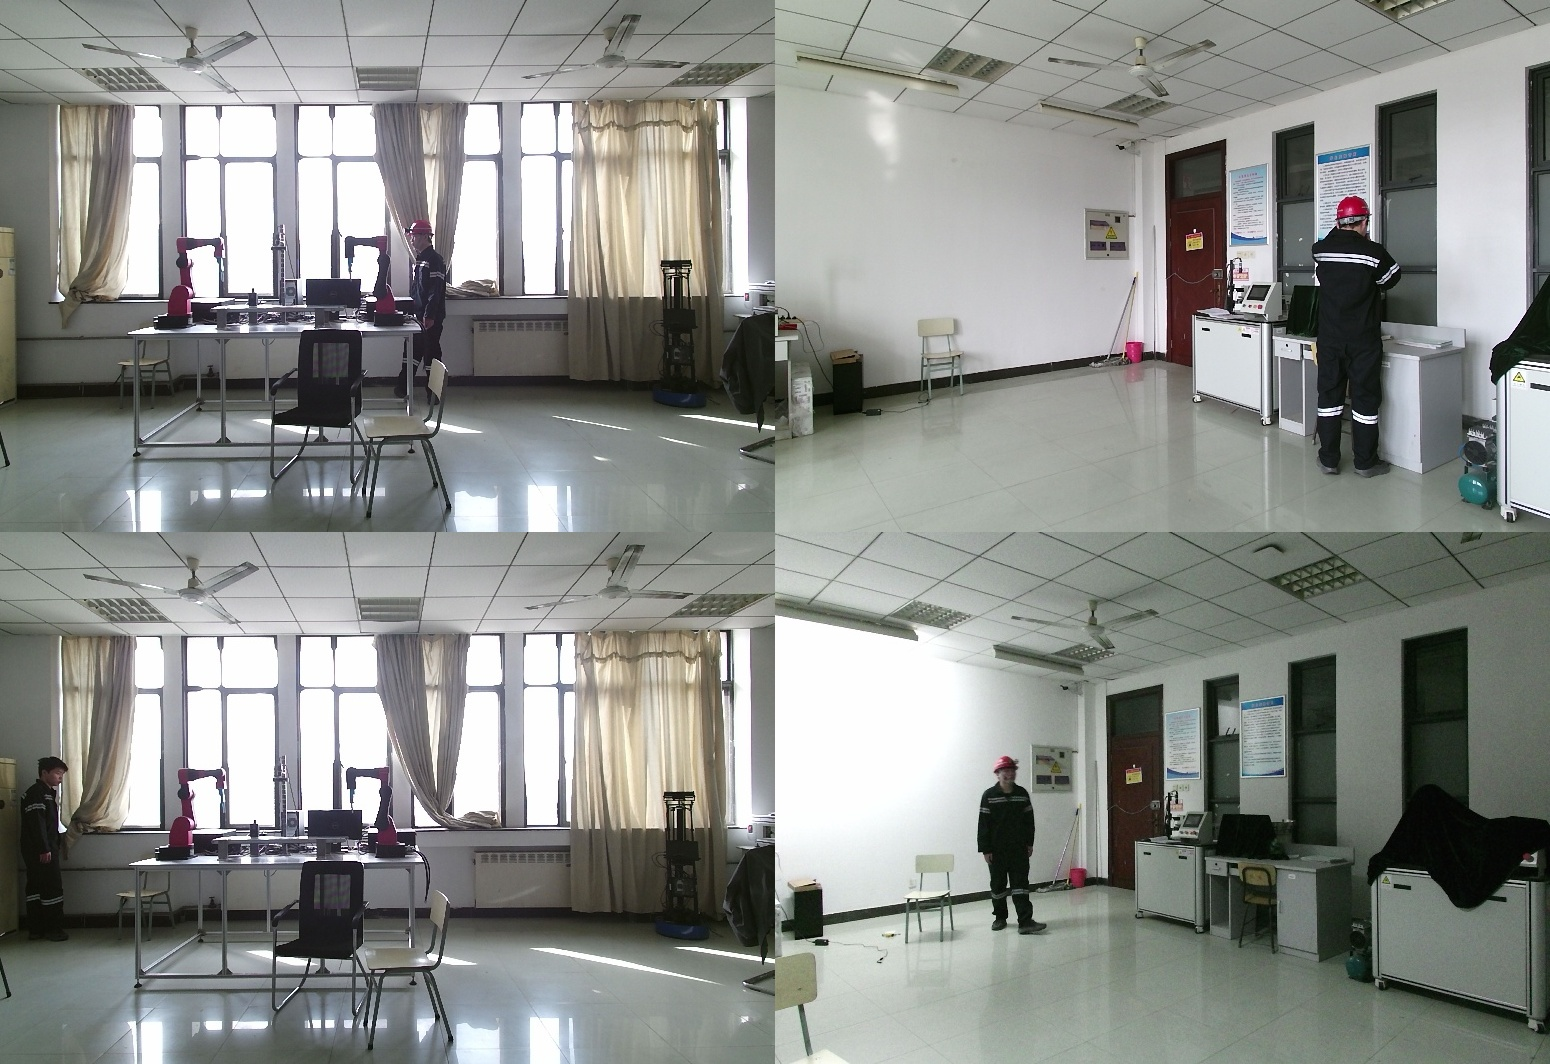person: (1307, 195, 1428, 478), (967, 756, 1045, 943), (11, 760, 69, 940), (398, 220, 453, 402)
